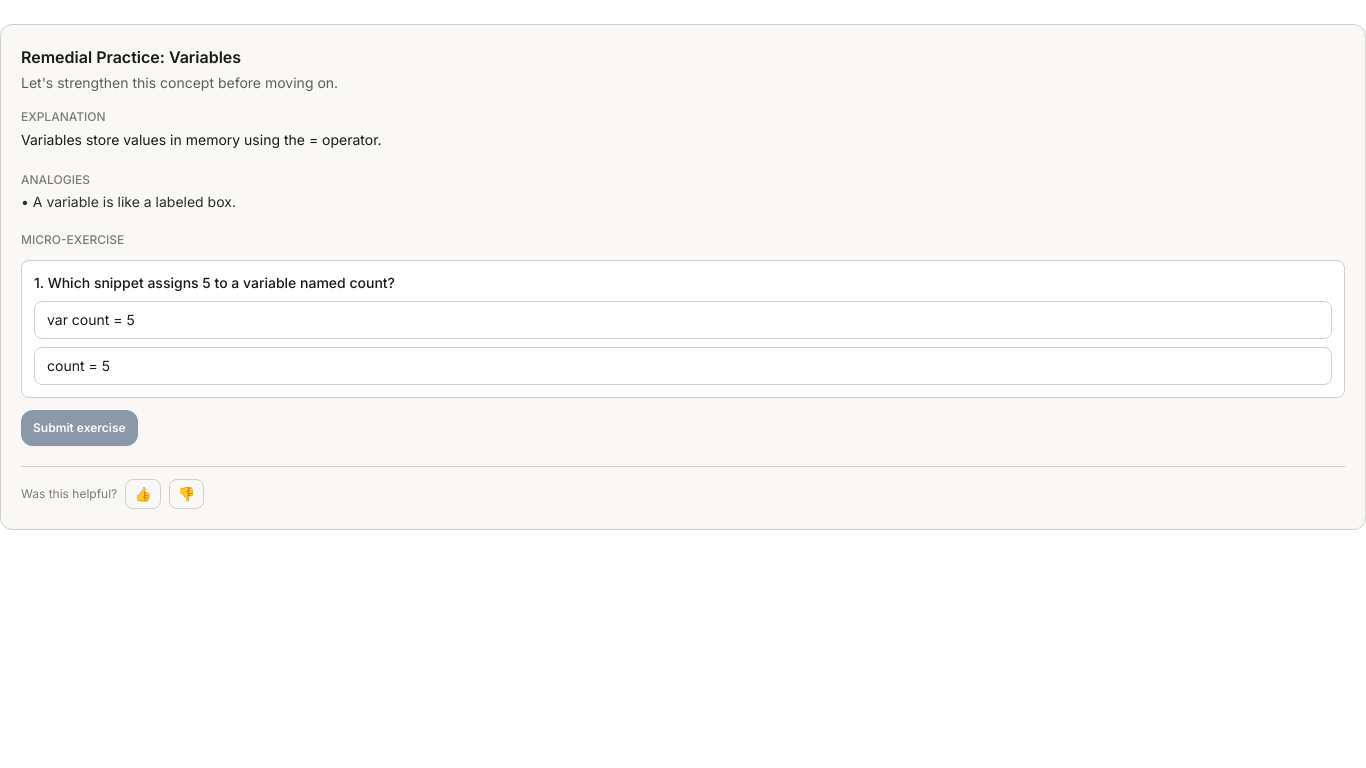
RemedialPanel › submits the micro-exercise locally and shows the explanation
Expected: the text "Variables store values in memory using the = operator." is shown, x1=21 y1=131 x2=382 y2=148
What coordinates should you click on to do the following:
click the button "count = 5"
I would click on:
 (78, 365)
Its box is x1=34 y1=347 x2=1332 y2=385.
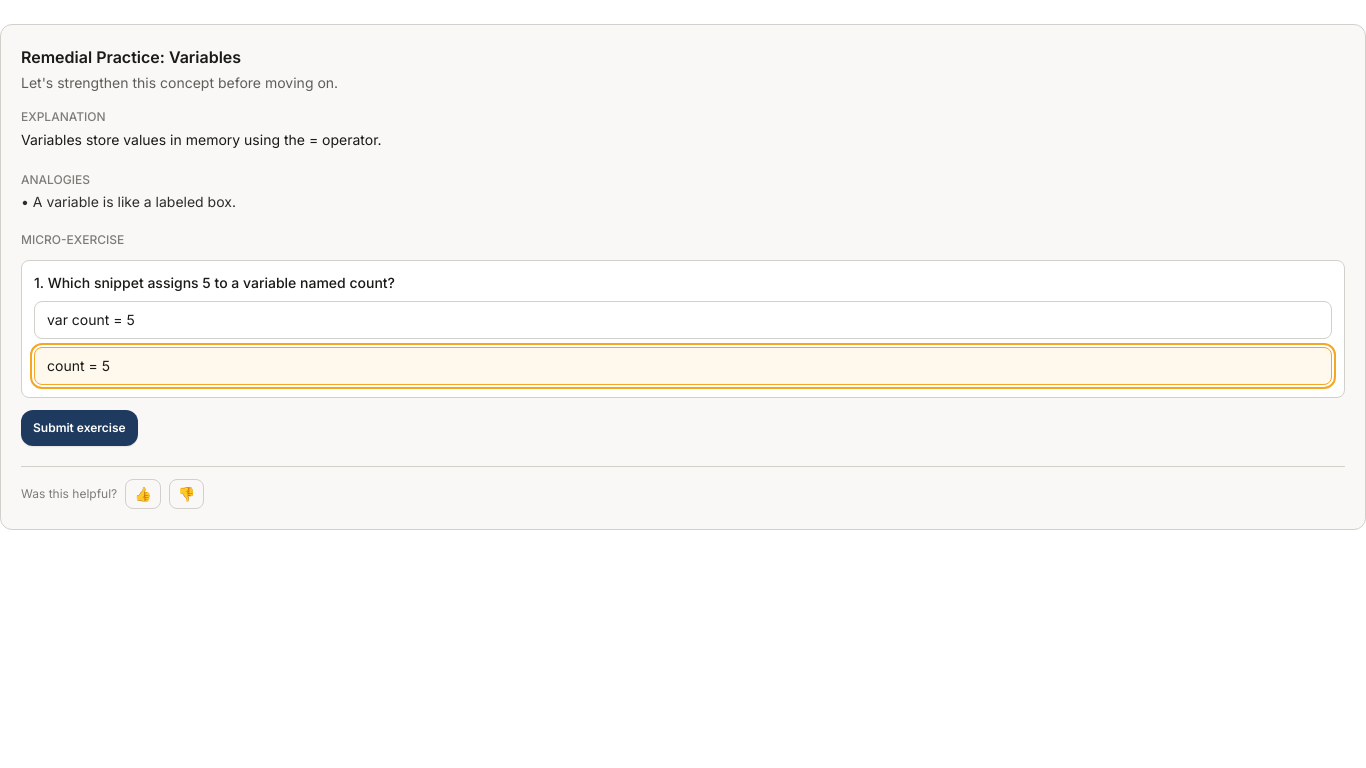
What coordinates should you click on to do the following:
click the button "Submit exercise"
I would click on:
 (79, 428)
Its box is x1=21 y1=410 x2=138 y2=446.
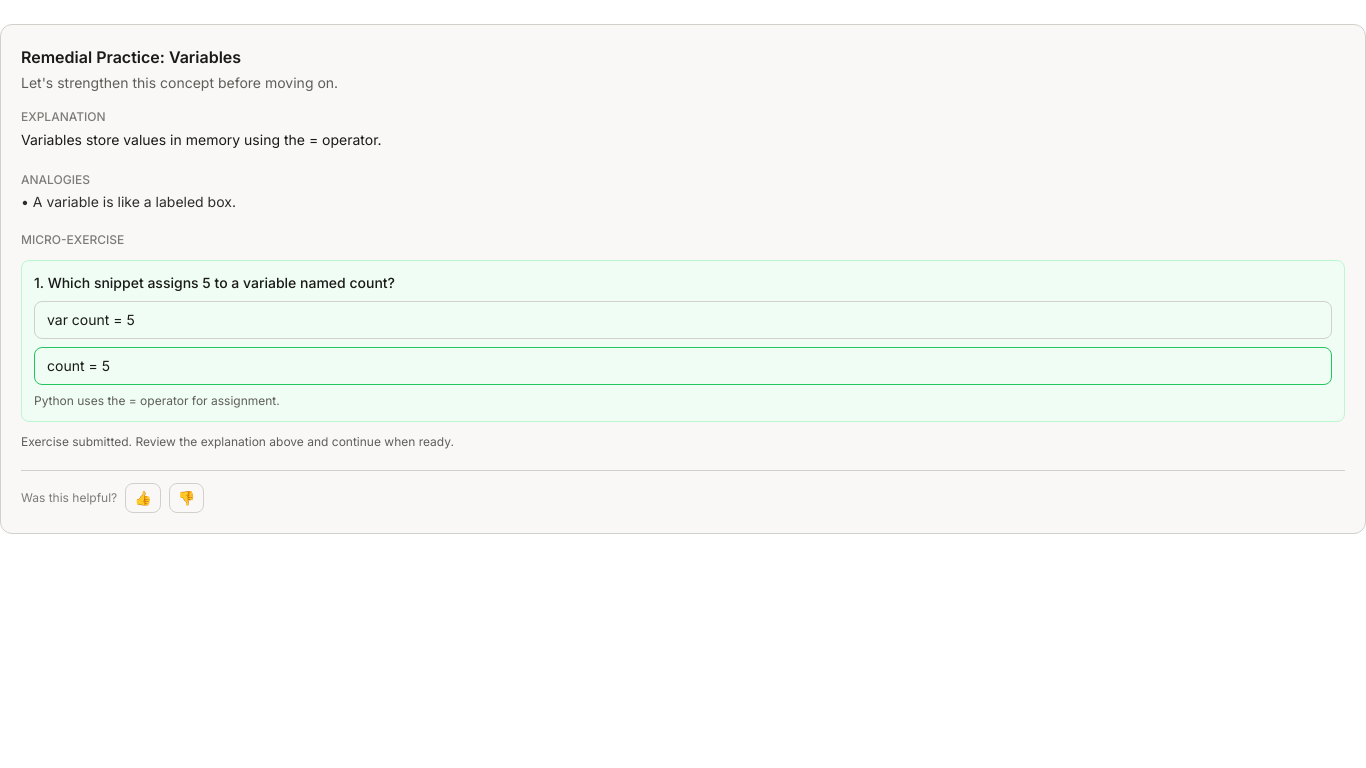
Result: the text "Python uses the = operator for assignment." is shown at x1=34 y1=393 x2=280 y2=408
